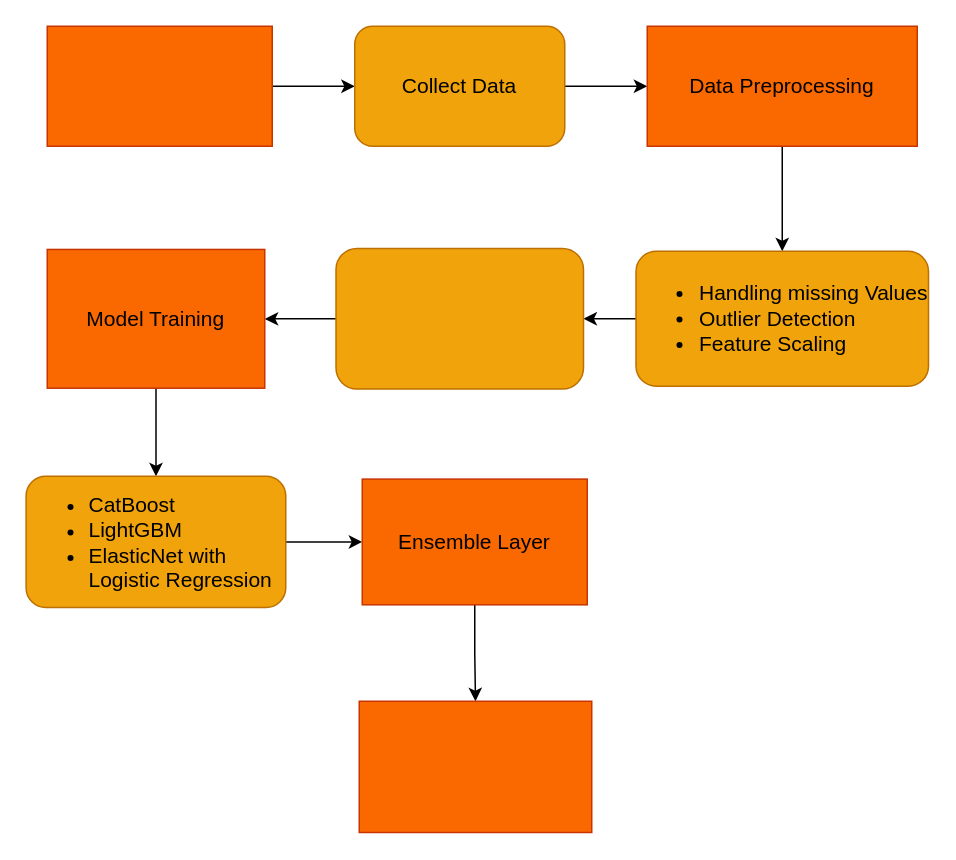
Image size: 956x860. Some labels were removed from this diagram. The centre of each missing label's shape, as x and y in pixels:
Data Collection: point (159, 85)
Encoding Data Splitting Cross-Validation: point (459, 318)
Evaluation and Interpretation: point (475, 766)
